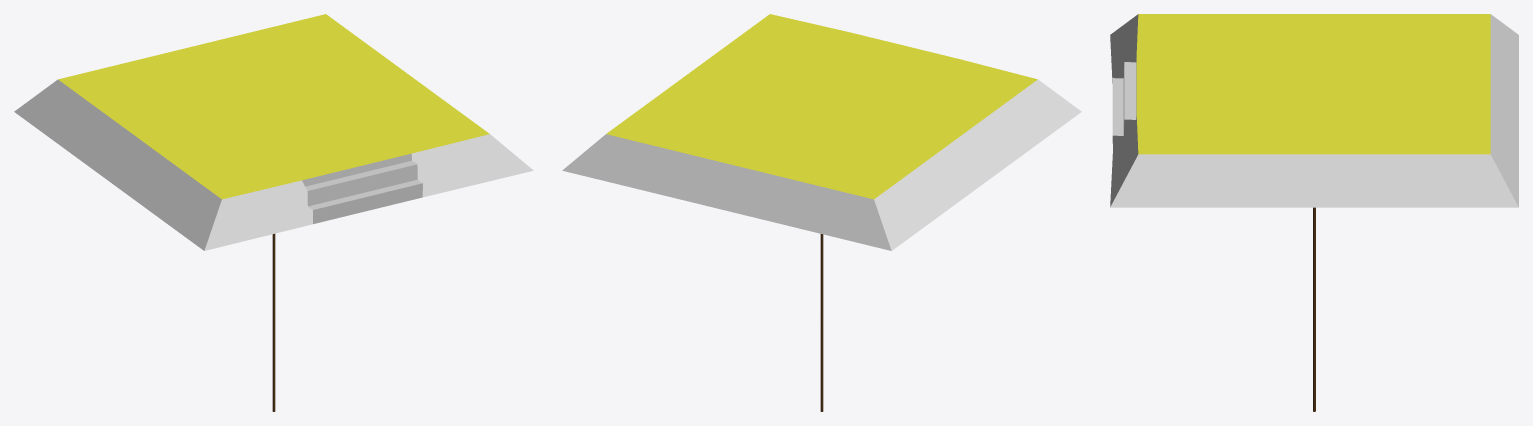
File: tarima_v2.fbx
The picture shows the model from 3 angles, left to right: view 1: azimuth 30°, elevation 25°; view 2: azimuth 150°, elevation 25°; view 3: azimuth 270°, elevation 25°; orthographic projection. The views are drawn at different scales.
Visible parts, largest first — view 1: Cilindro; view 2: Cilindro; view 3: Cilindro.
Boxes of the visible parts, x1,y1,x2,y2 form: Cilindro: [14, 14, 533, 411]; Cilindro: [562, 14, 1081, 411]; Cilindro: [1110, 14, 1518, 411].
Size of the model in its own units: 6000 by 5307 by 6000.
